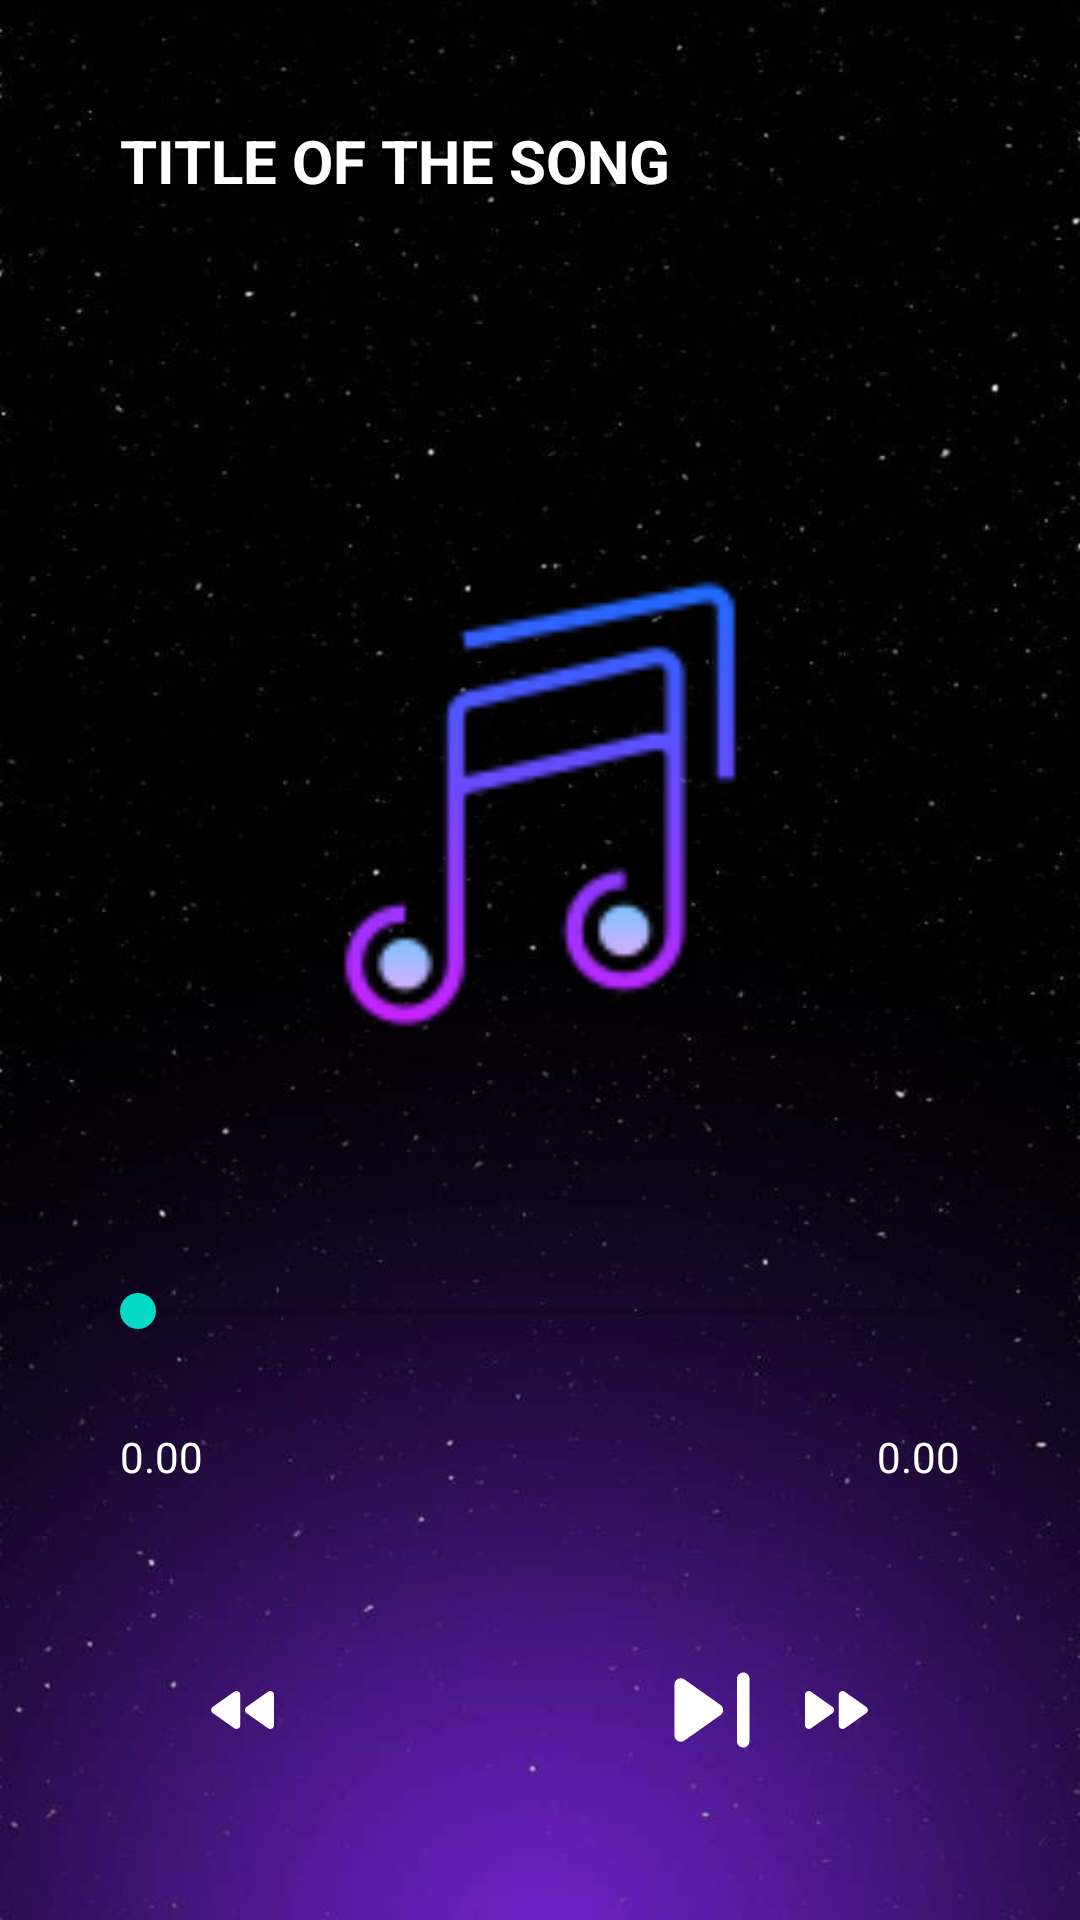

Icons on this 1080*1920 Android screen, each with the point to tap as (x,y):
fastforward: (831,1723)
fastrewind: (246,1710)
next: (712,1710)
